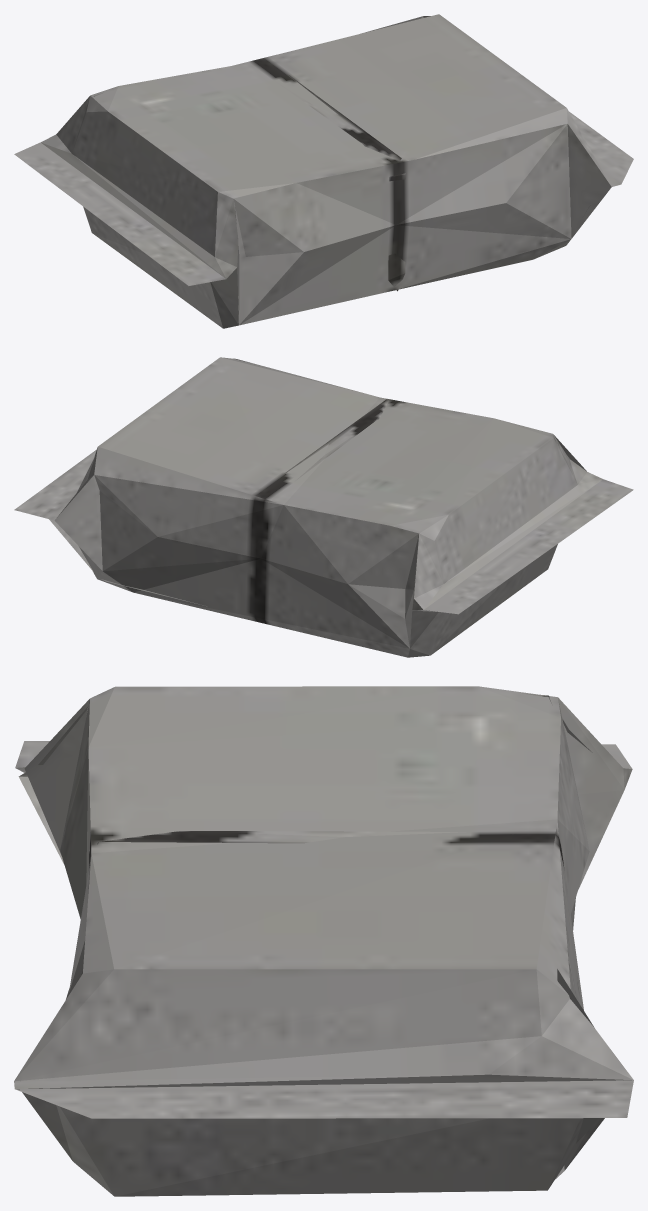
Rendered from res.food_raw_2.glb.
3 renders of one model, top to bottom at view 1: azimuth 30°, elevation 25°; view 2: azimuth 150°, elevation 25°; view 3: azimuth 270°, elevation 25°, orthographic. The views are drawn at different scales.
Visible parts, largest first — view 1: body; view 2: body; view 3: body.
Part boxes in pixels (bbox=[...]): body: bbox=[14, 14, 633, 328]; body: bbox=[14, 357, 633, 657]; body: bbox=[14, 686, 633, 1196].
Size of the model in its own units: 0.3998 by 0.1151 by 0.2789.
1 material, 1 textured.
